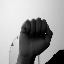a: (17, 15, 54, 58)
